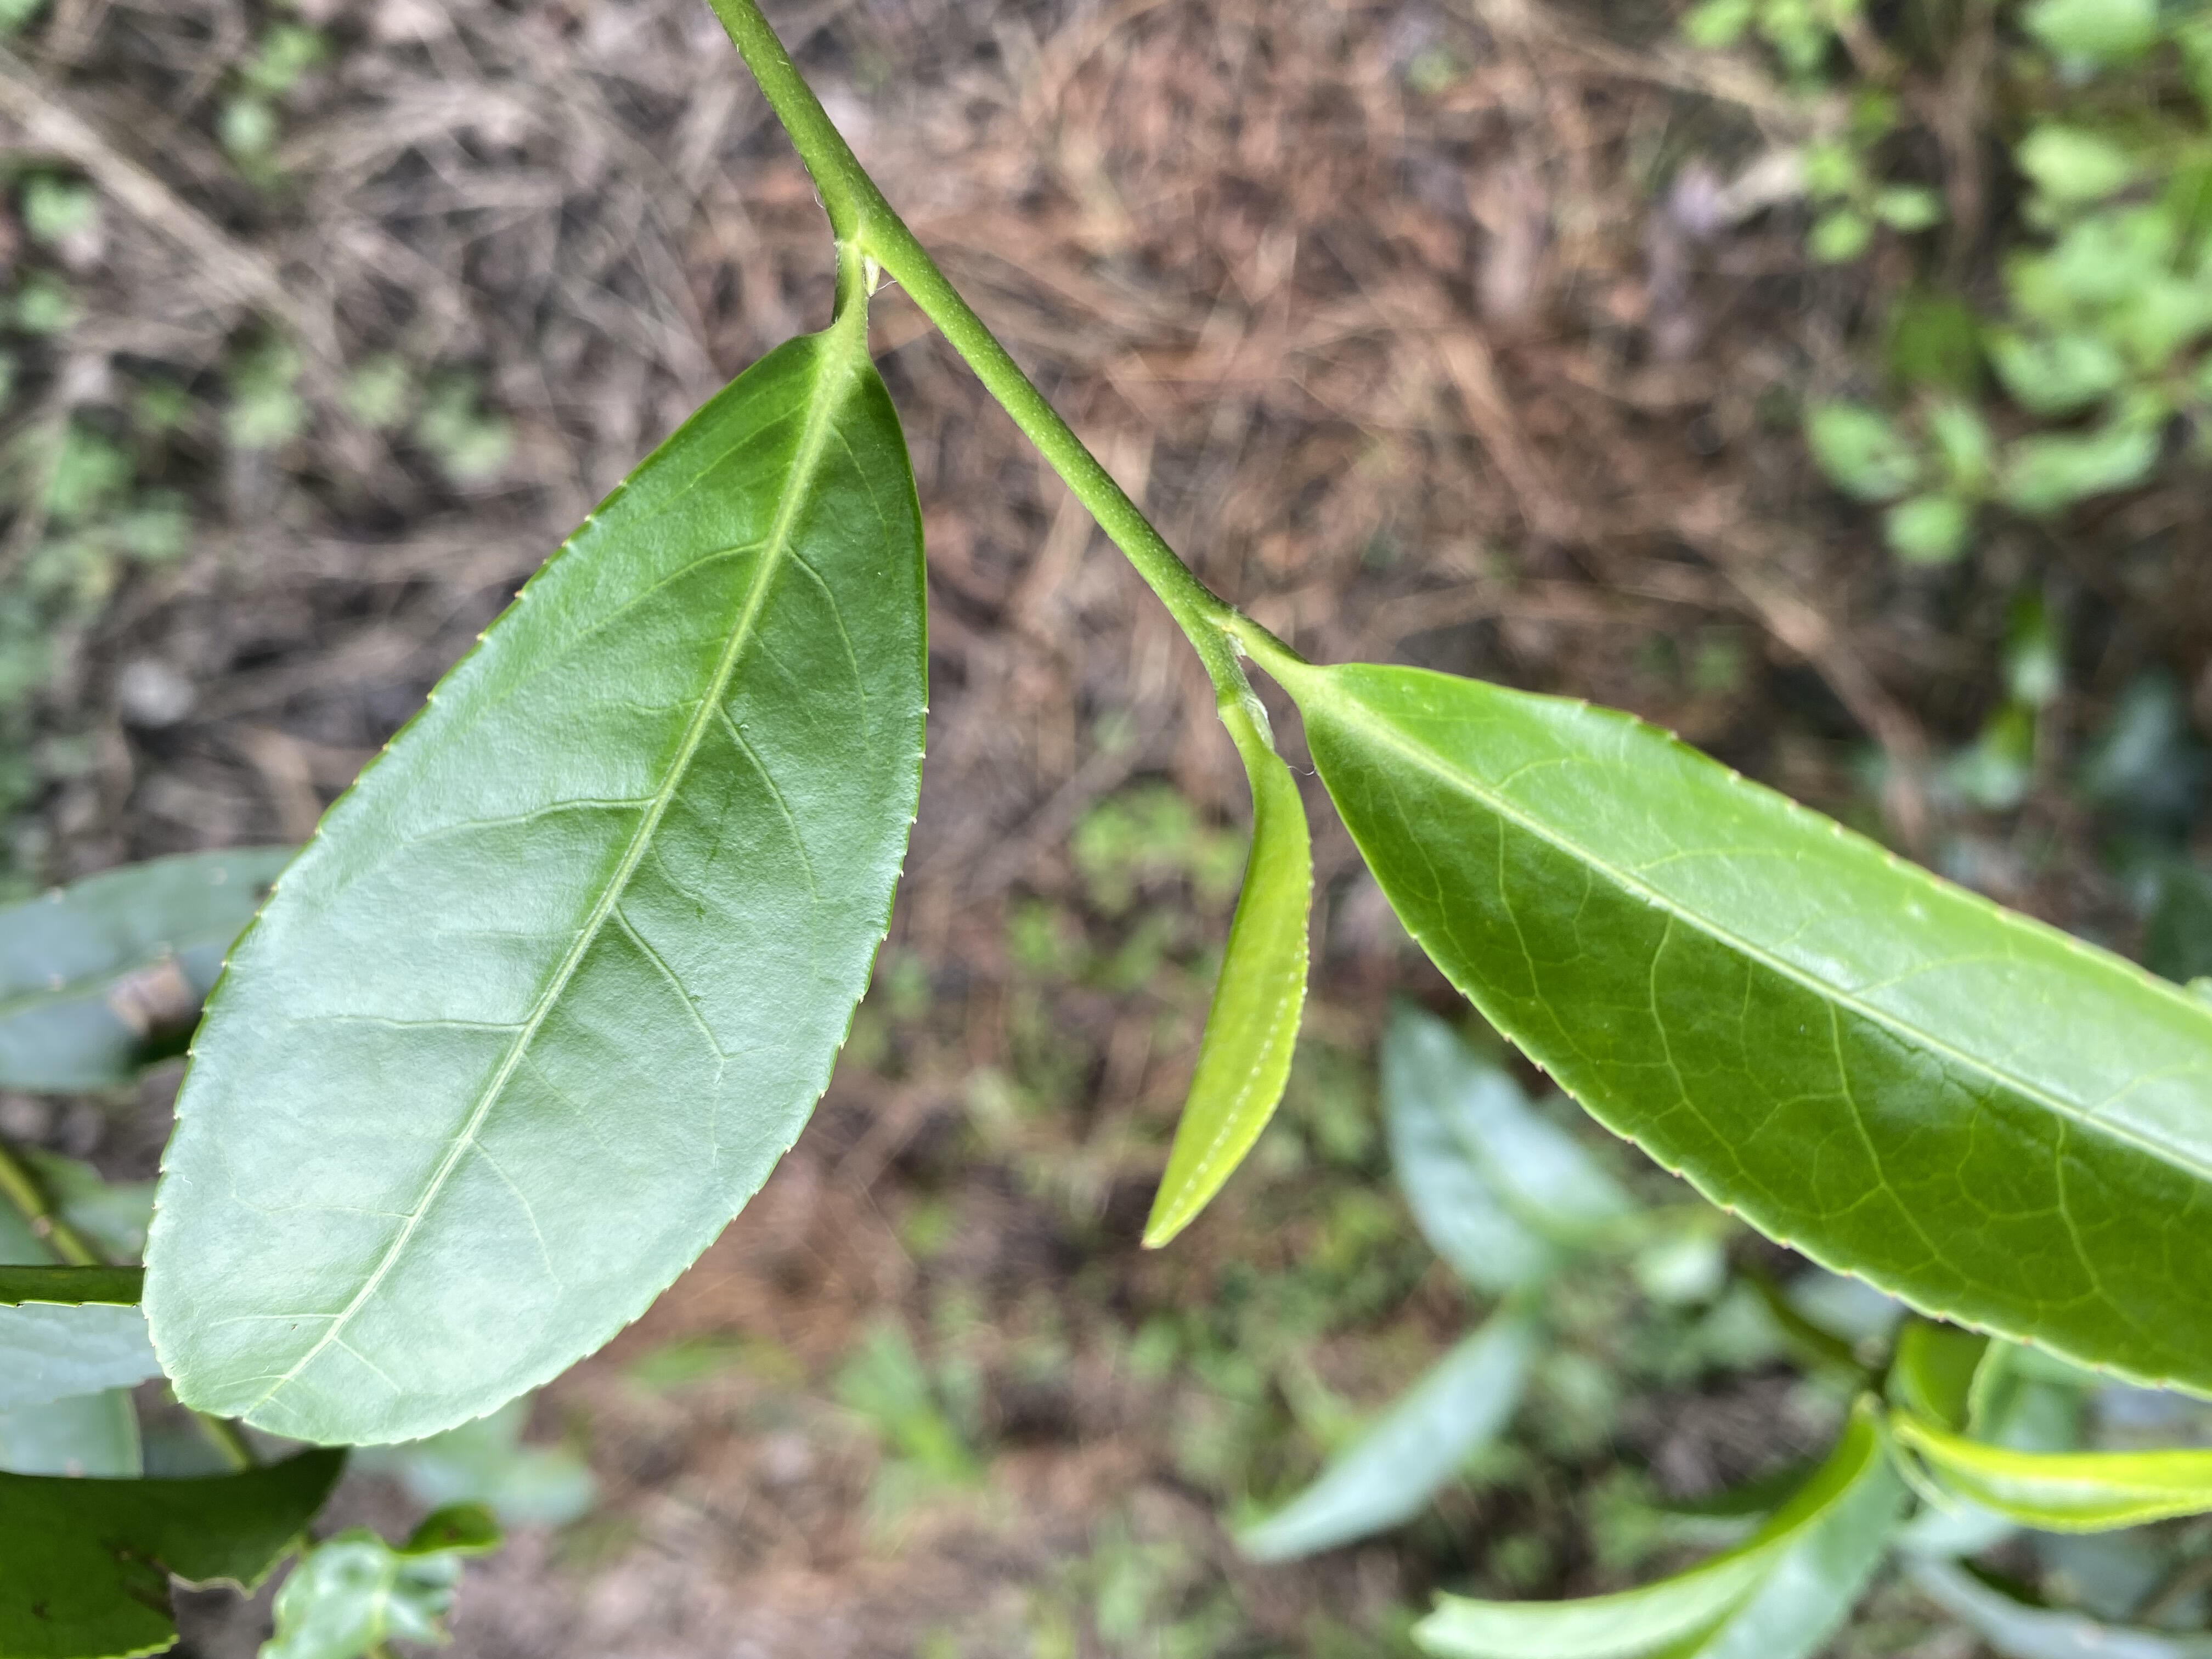healthy: (134, 336, 932, 1452), (1308, 660, 2209, 1398)
